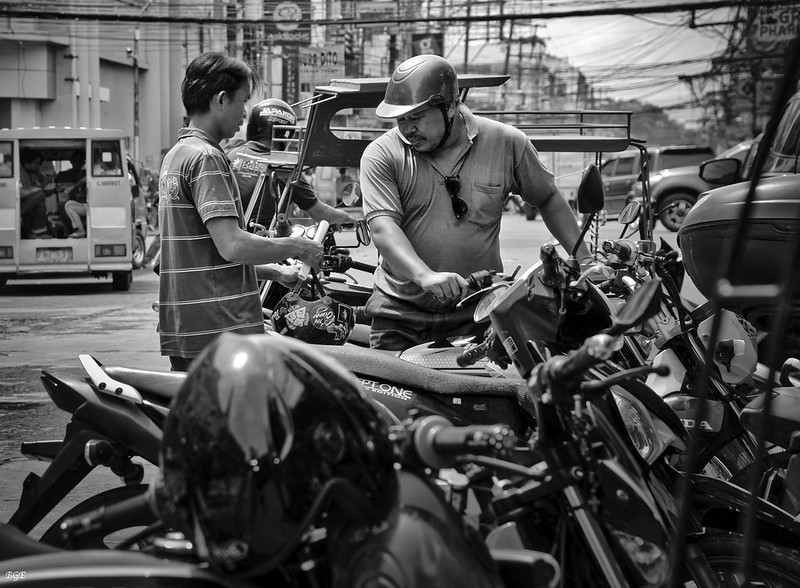helmet: (379, 57, 467, 121)
